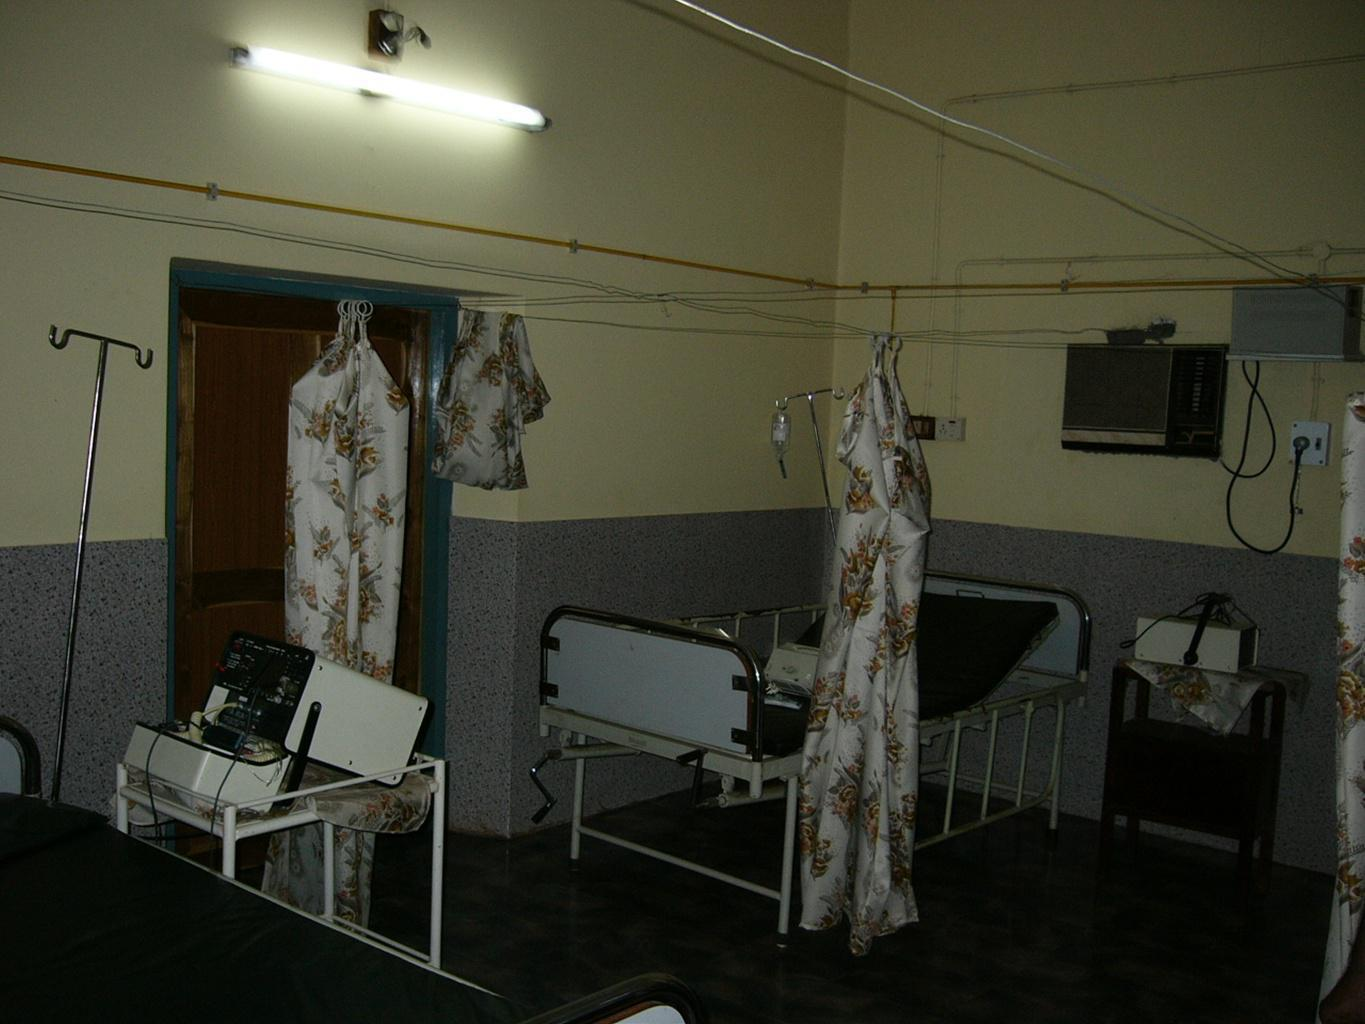Cama: (553, 555, 1089, 897)
Puerta: (180, 286, 428, 688)
